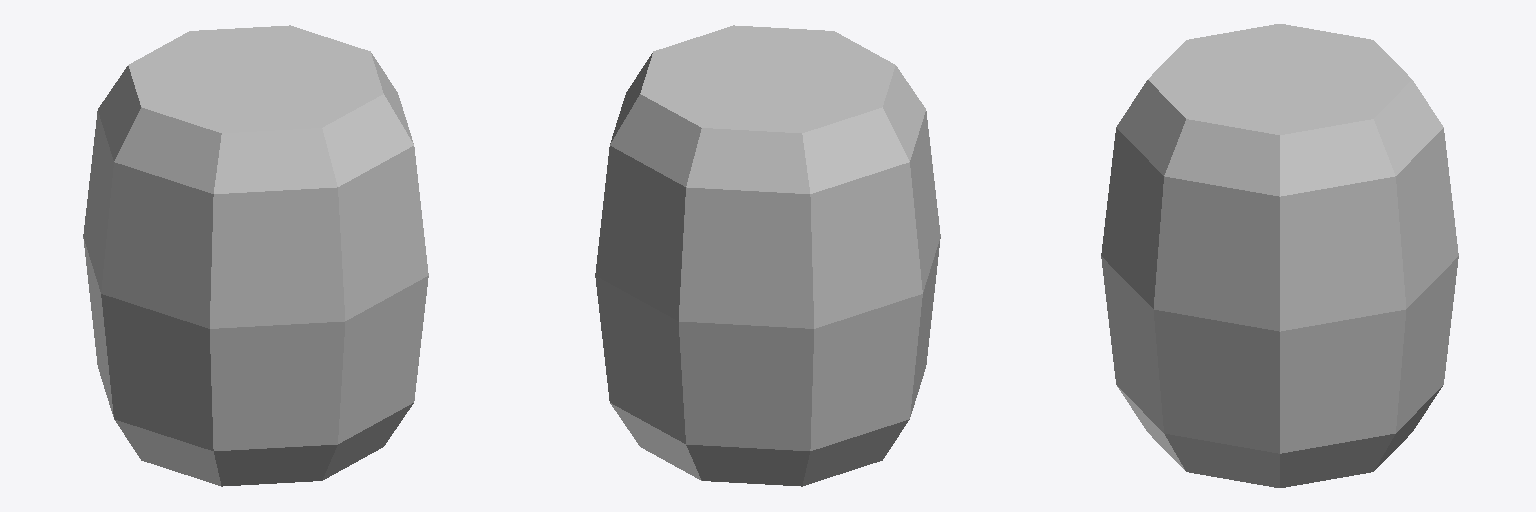
File: barrel_003.obj
3 views of the same model, side by side, from view 1: azimuth 30°, elevation 25°; view 2: azimuth 150°, elevation 25°; view 3: azimuth 270°, elevation 25° (orthographic).
Visible parts, largest first — view 1: barrel_003_Cylinder.016; view 2: barrel_003_Cylinder.016; view 3: barrel_003_Cylinder.016.
Part boxes in pixels (x1,y1,x2,y2): barrel_003_Cylinder.016: (83, 25, 428, 486); barrel_003_Cylinder.016: (595, 25, 940, 486); barrel_003_Cylinder.016: (1101, 24, 1458, 487).
Size of the model in its own units: 0.3832 by 0.4173 by 0.3832.